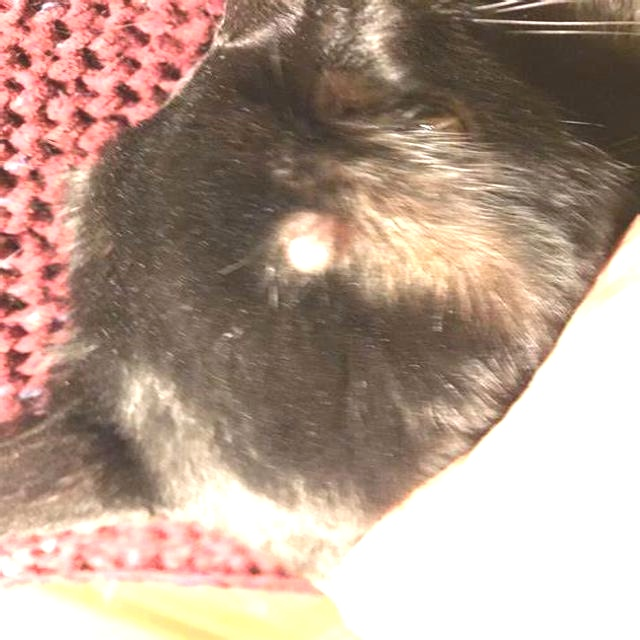lump_and_bump: (275, 205, 337, 287)
